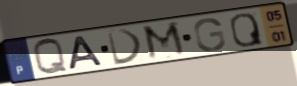A: (68, 34, 106, 72)
D: (105, 28, 146, 67)
G: (192, 17, 227, 53)
M: (140, 20, 190, 63)
Q: (31, 37, 71, 77), (228, 11, 265, 48)
